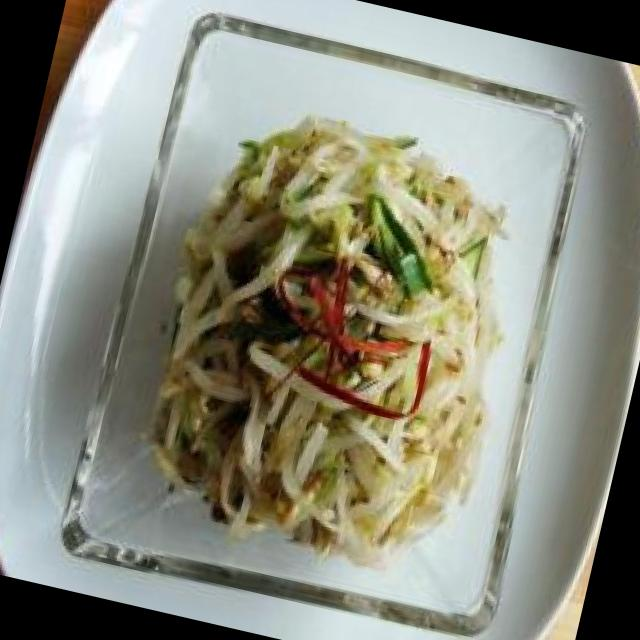mung_bean_sprouts: (125, 90, 543, 582)
